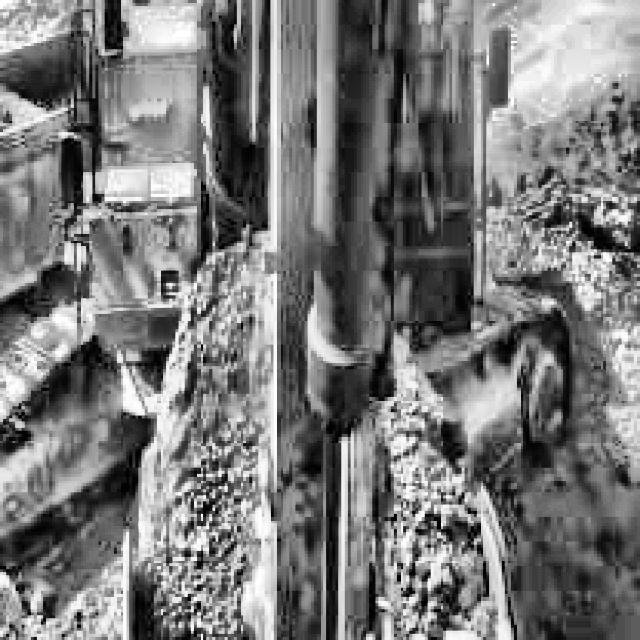dump_truck: (0, 31, 86, 422)
excavator: (0, 0, 578, 640)
